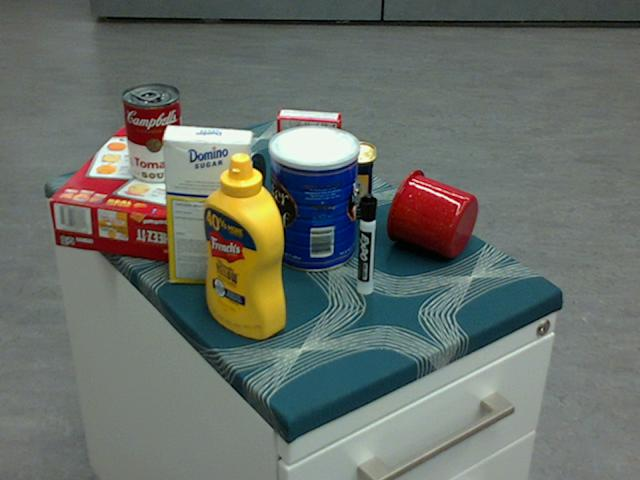cracker_box: (48, 126, 236, 265)
gelatin_box: (277, 109, 341, 166)
large_marker: (358, 193, 376, 295)
master_chef_can: (268, 124, 359, 271)
mug: (386, 168, 478, 257)
mustard_bottle: (204, 153, 285, 340)
potted_meat_can: (294, 140, 375, 217)
sugar_box: (161, 125, 251, 286)
tomato_soup_can: (121, 83, 184, 183)
tuna_fish_can: (210, 144, 263, 215)
